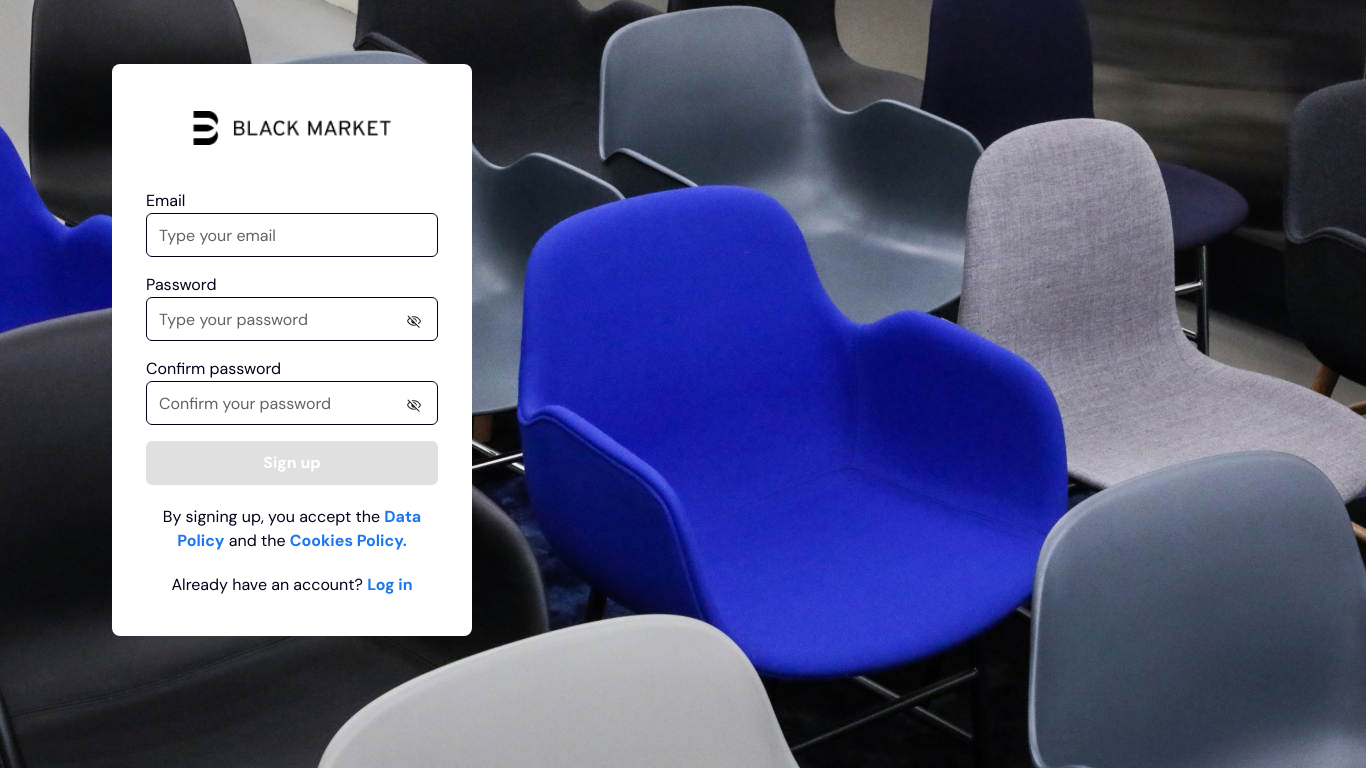
Signup › should display the message Verification e-mail as soon as the form has been filled out correctly and the data has been retrieved.
Type "test@example.com" into the field labelled "Email" at (292, 235), box [146,213,438,257]
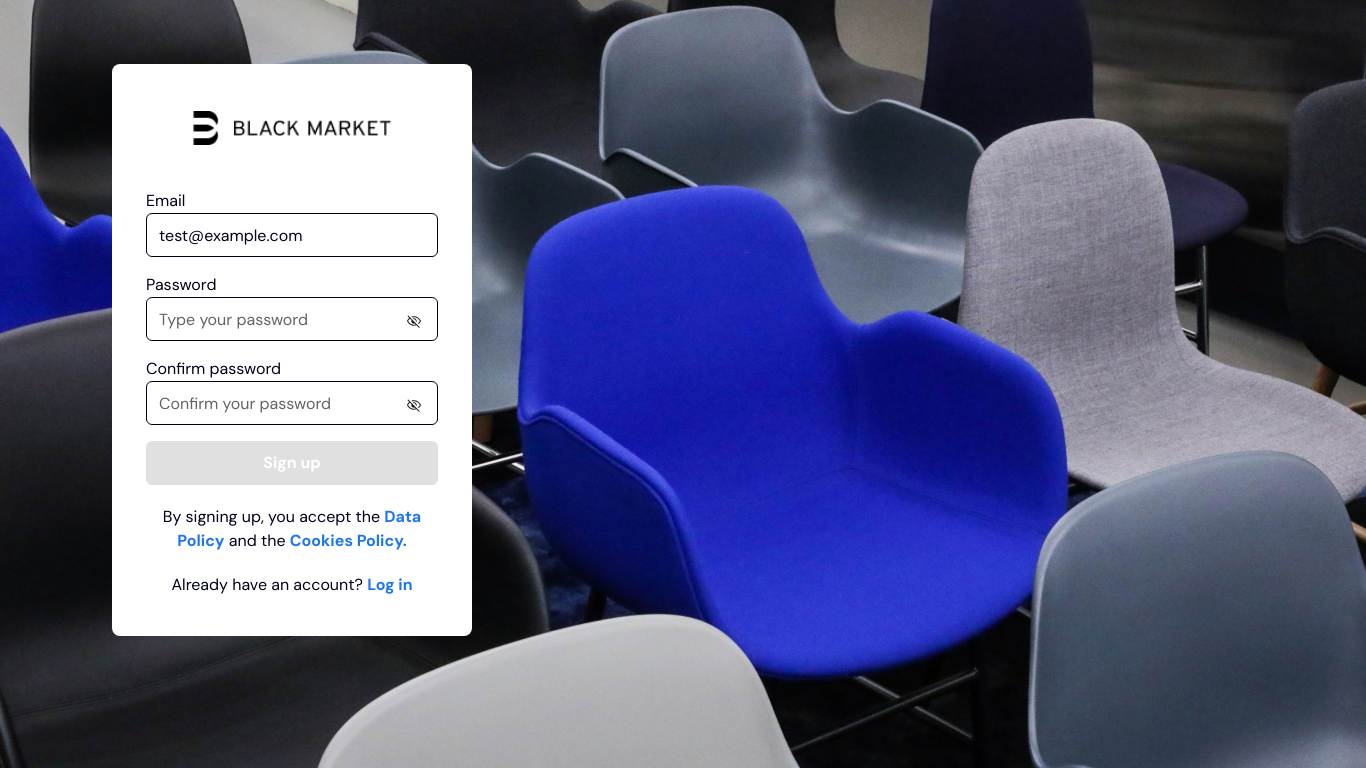
Type "MyPassword123" into the password field labelled "Password" at (292, 319), box [146,297,438,341]
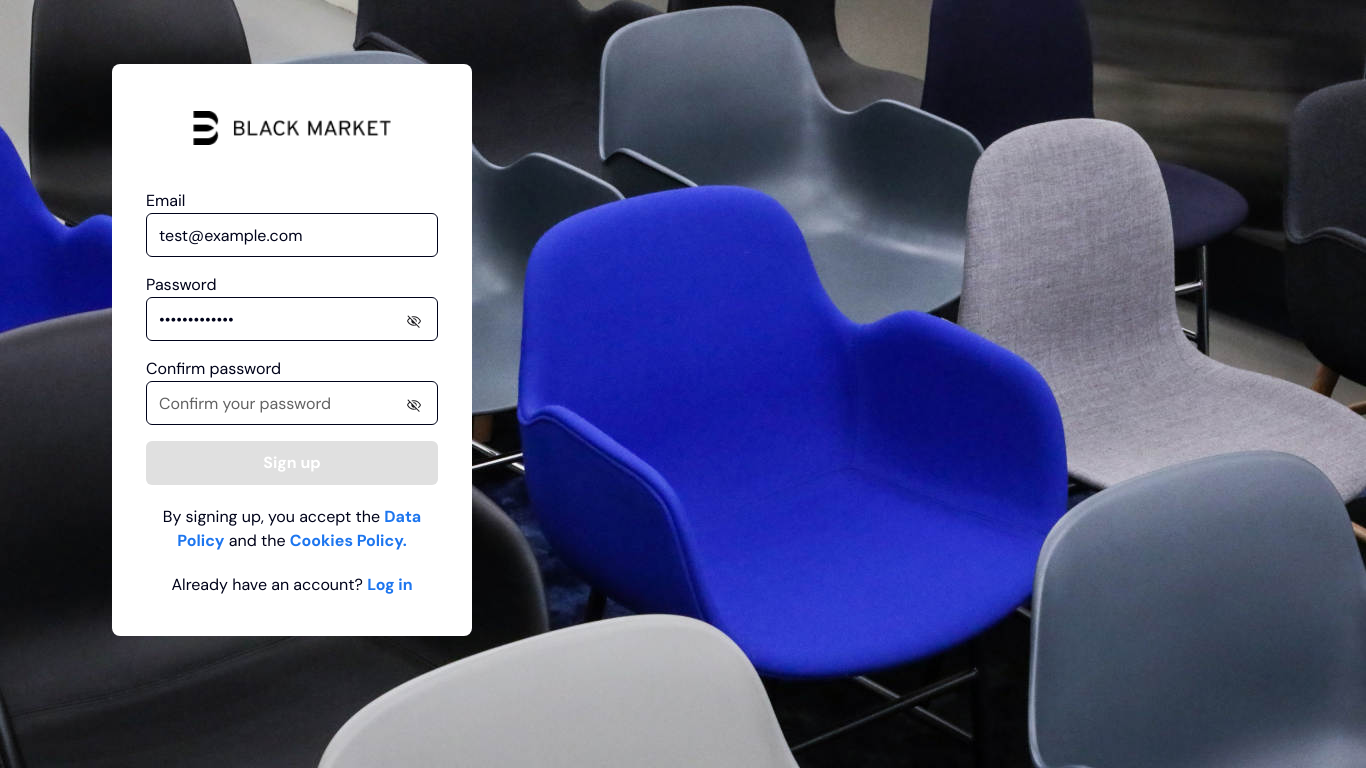
Type "MyPassword123" into the password field labelled "Confirm password" at (292, 403), box [146,381,438,425]
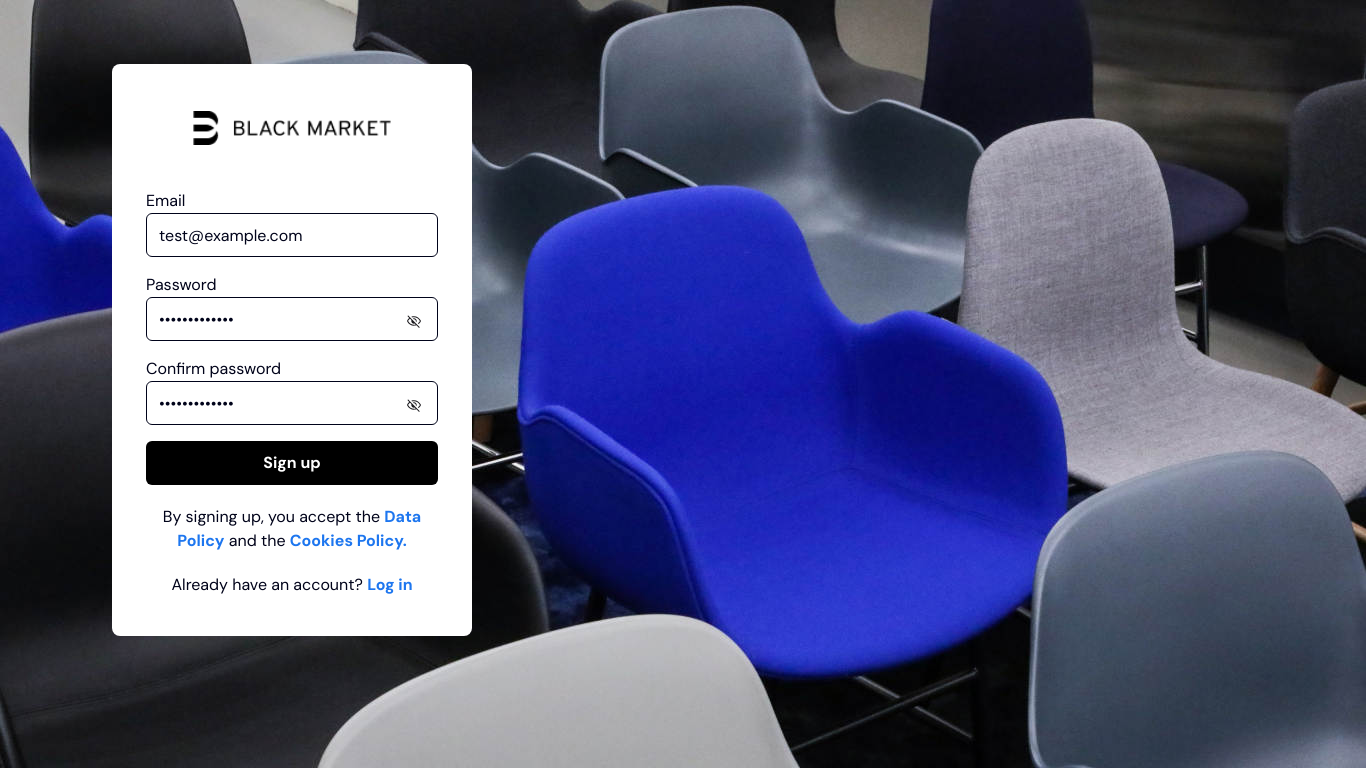
Click the button "Sign up" at (292, 463), box [146,441,438,485]
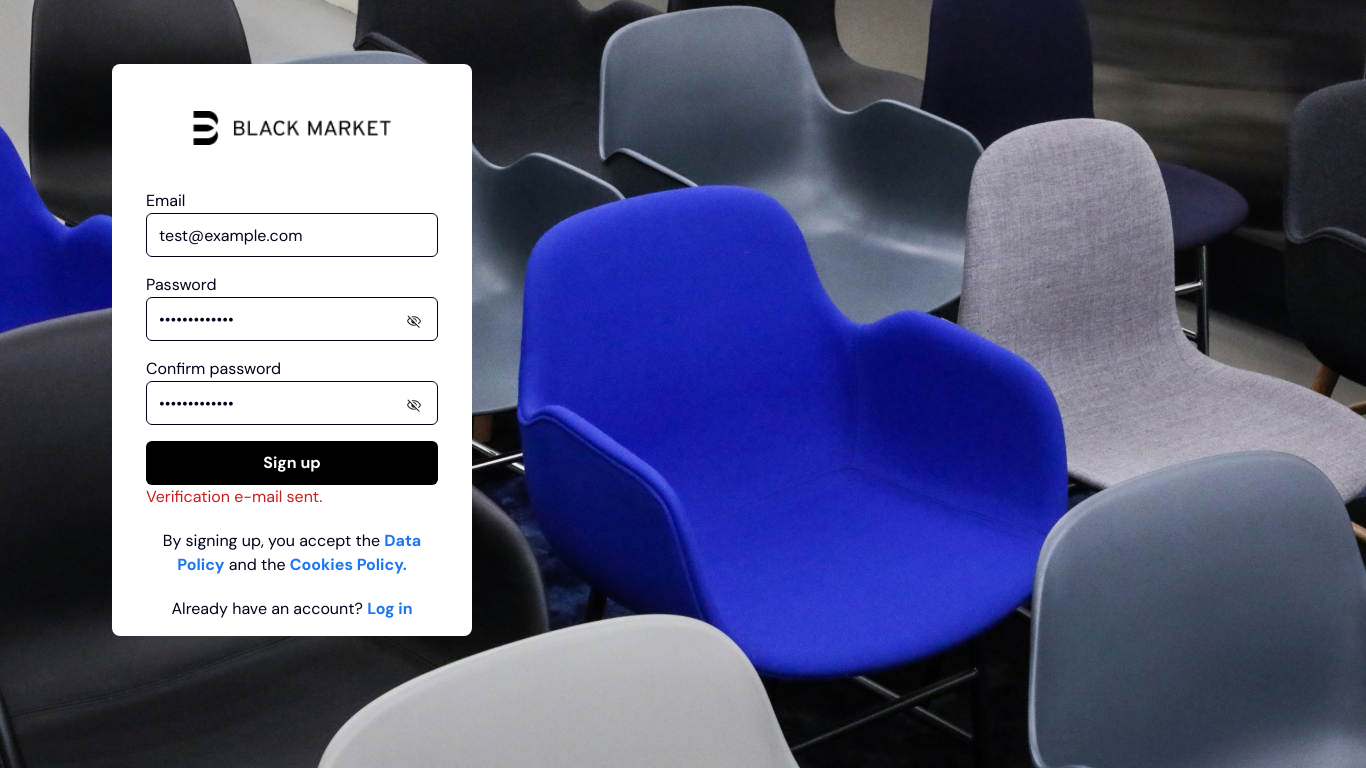
expect the text "Verification e-mail sent." is shown: met, box [146,486,322,507]
